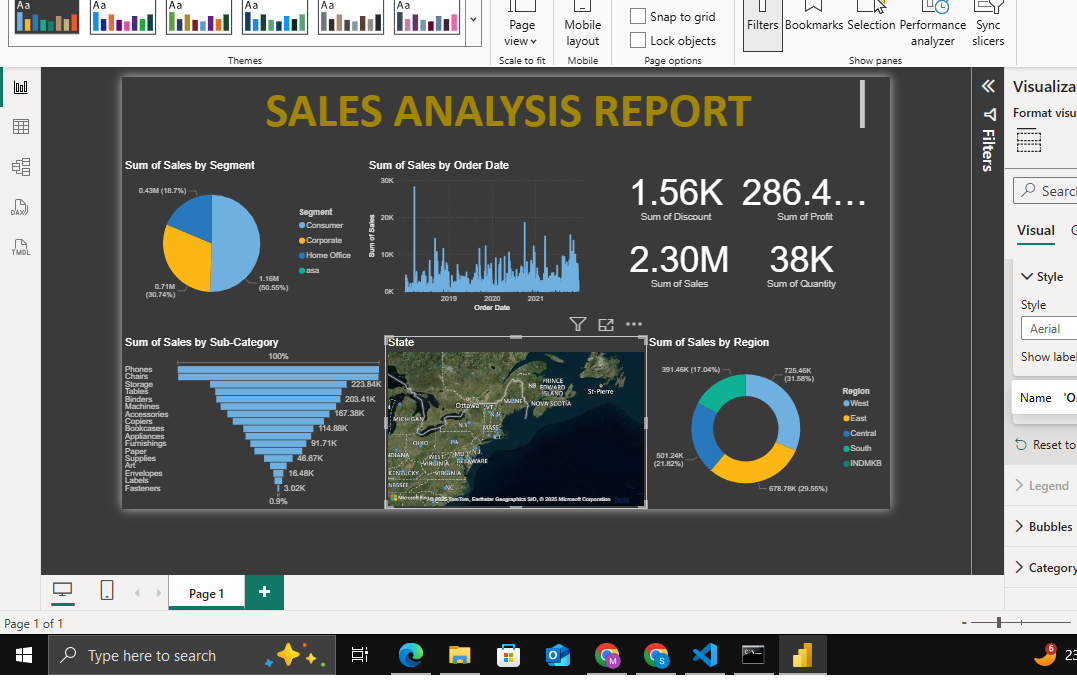

Layout of this report page (visuals, bound fields, positions):
{"tool":"powerbi","page":{"name":"Page 1","canvas":[1280,720],"ordinal":0},"visuals":[{"type":"donutChart","fields":{"Category":["Orders.Region"],"Y":["Sum(Orders.Sales)"]},"box":[873.3,431.7,406.7,288.3],"z":0},{"type":"funnel","fields":{"Category":["Orders.Sub-Category"],"Y":["Sum(Orders.Sales)"]},"box":[0,431.7,438.3,288.3],"z":1000},{"type":"map","fields":{"Category":["Orders.State"]},"box":[438.6,431.4,437.1,288.6],"z":2000},{"type":"pieChart","fields":{"Category":["Orders.Segment"],"Y":["Sum(Orders.Sales)"]},"box":[0,136.7,395,260],"z":3000},{"type":"lineChart","fields":{"Category":["Orders.Order Date"],"Y":["Sum(Orders.Sales)"]},"box":[406.7,136.7,373.3,260],"z":4000},{"type":"card","fields":{"Values":["Sum(Orders.Sales)"]},"box":[836.7,253.3,185,106.7],"z":5000},{"type":"card","fields":{"Values":["Sum(Orders.Profit)"]},"box":[1021.7,136.7,233.3,116.7],"z":6000},{"type":"card","fields":{"Values":["Sum(Orders.Discount)"]},"box":[836.7,136.7,173.3,116.7],"z":7000},{"type":"card","fields":{"Values":["Sum(Orders.Quantity)"]},"box":[1021.7,253.3,221.7,106.7],"z":8000},{"type":"textbox","box":[35,0,1208.3,98.3],"z":8001}]}

Visuals, with their boxes on the page's 1280x720 design canvas (x1, y1, x2, y2). These are canvas units, not pixel positions in the 1077x681 screenshot, which may show the page scaled, cropped or inside an application window:
donutChart - Orders.Region x Sum(Orders.Sales): [873,432,1280,720]
funnel - Orders.Sub-Category x Sum(Orders.Sales): [0,432,438,720]
map - Orders.State: [439,431,876,720]
pieChart - Orders.Segment x Sum(Orders.Sales): [0,137,395,397]
lineChart - Orders.Order Date x Sum(Orders.Sales): [407,137,780,397]
card - Sum(Orders.Sales): [837,253,1022,360]
card - Sum(Orders.Profit): [1022,137,1255,253]
card - Sum(Orders.Discount): [837,137,1010,253]
card - Sum(Orders.Quantity): [1022,253,1243,360]
textbox: [35,0,1243,98]
